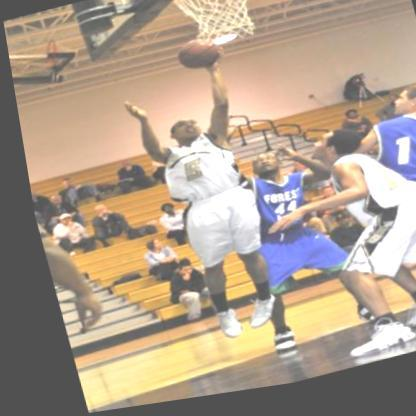basketball: (170, 40, 221, 78)
